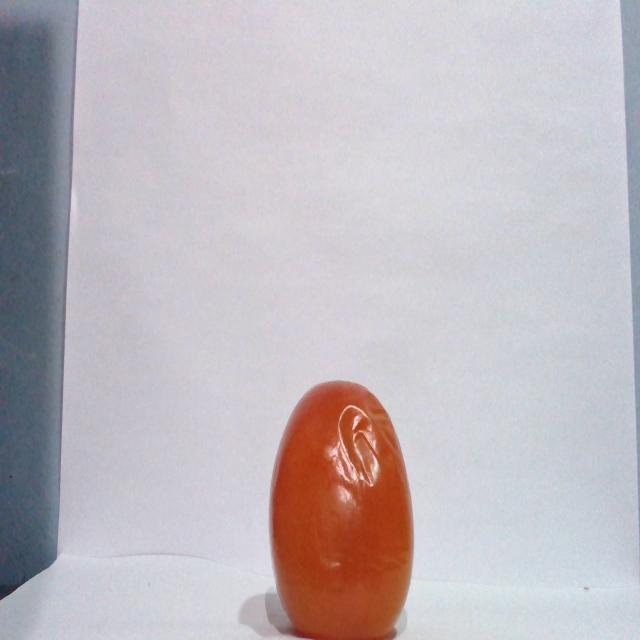Red: (267, 378, 415, 638)
